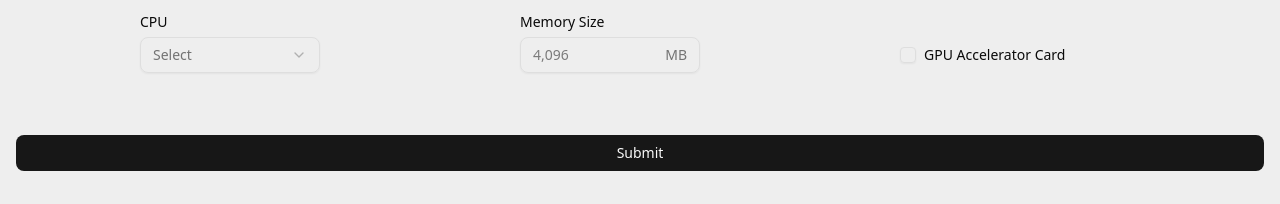
Server composer form › CPU dropdown have expected options
Click the dropdown named "CPU" at (230, 55), box [140,37,320,73]
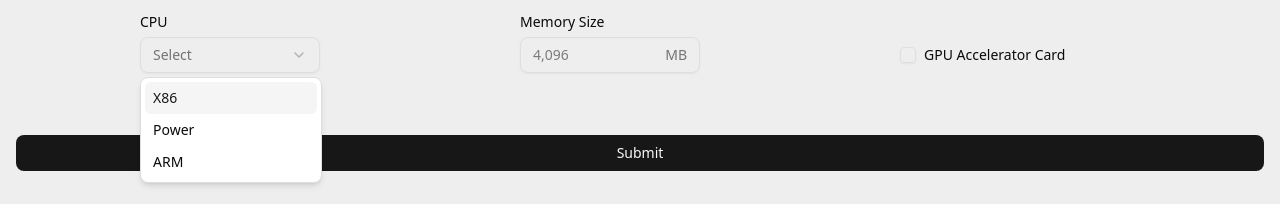
Now the text "X86" is shown, box [153,88,177,108]
Now the text "Power" is shown, box [153,120,194,140]
Now the text "ARM" is shown, box [153,152,183,172]
